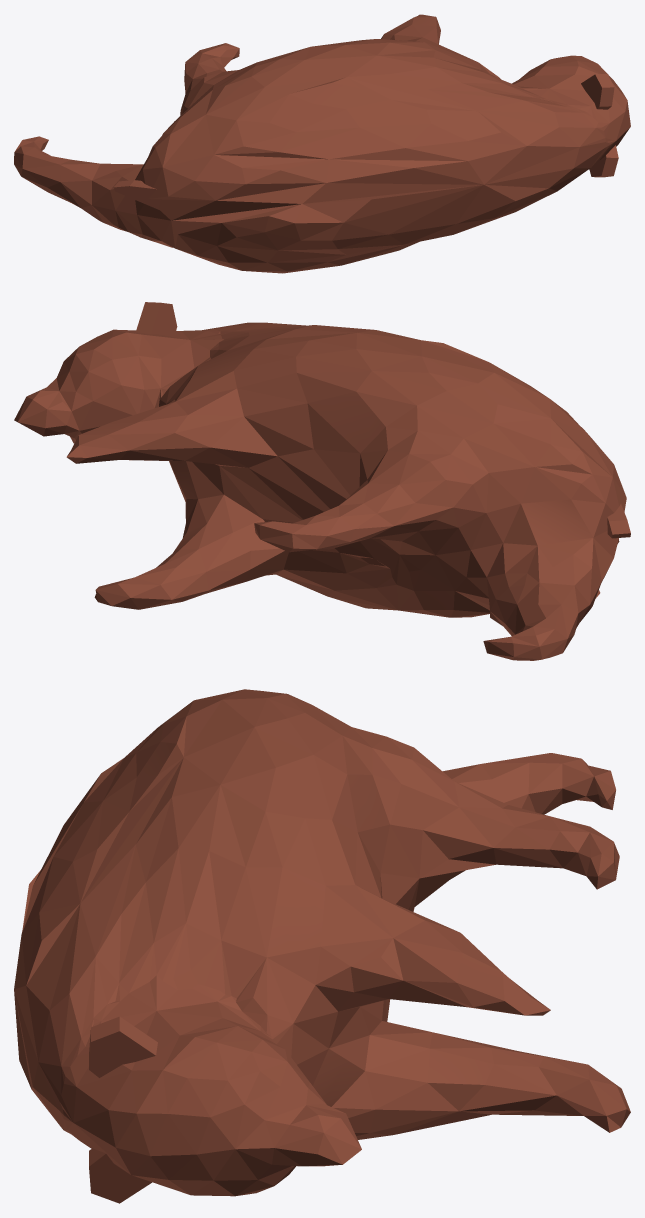
The model's file is bear.fbx.
3 views of the same model, one above another, from view 1: azimuth 30°, elevation 25°; view 2: azimuth 150°, elevation 25°; view 3: azimuth 270°, elevation 25° (orthographic). The views are drawn at different scales.
Visible parts, largest first — view 1: leg; view 2: leg; view 3: leg.
Part boxes in pixels (x1,y1,x2,y2): leg: (14,14,630,273); leg: (14,302,630,660); leg: (14,689,630,1203).
Size of the model in its own units: 16.2 by 6.18 by 10.02.
